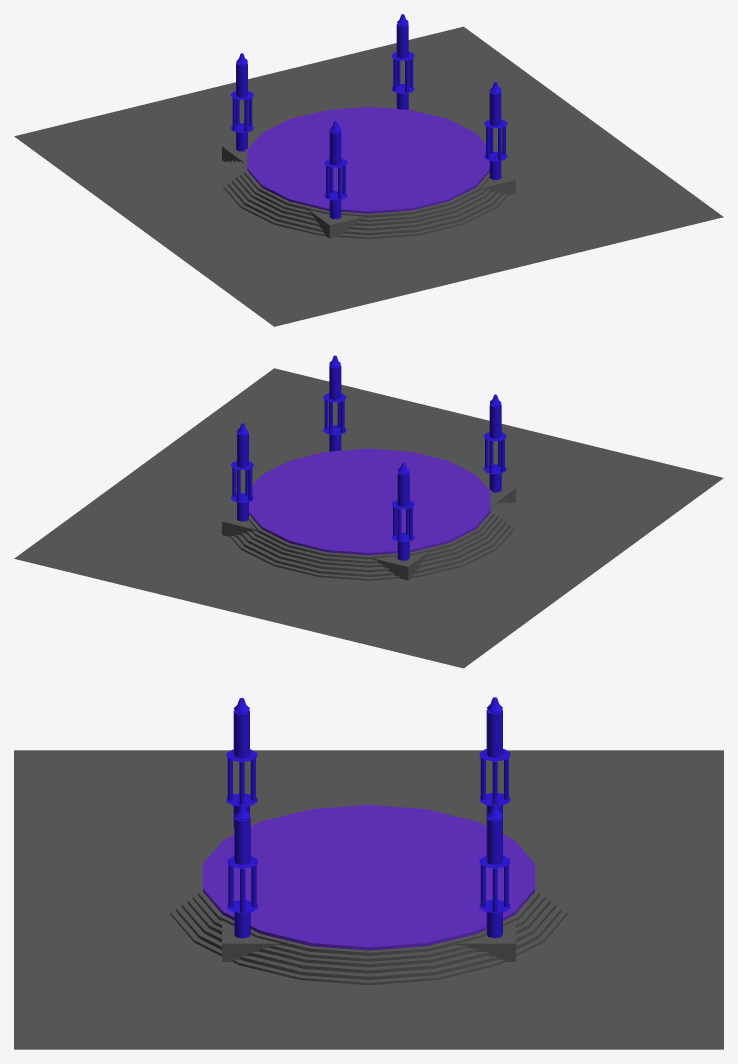
Rendered from NewRoundedArenaWithColor.FBX.
3 renders of one model, top to bottom at view 1: azimuth 30°, elevation 25°; view 2: azimuth 150°, elevation 25°; view 3: azimuth 270°, elevation 25°, orthographic. The views are drawn at different scales.
Parts seen in each view (by area): view 1: ArenaG, Cylinder028, NewArena, Cylinder034, Cylinder033, Cylinder024, Cylinder031, Cylinder030, Cylinder032, Cylinder029, Cylinder027, Cylinder025 (+1 smaller); view 2: ArenaG, Cylinder028, NewArena, Cylinder034, Cylinder033, Cylinder024, Cylinder031, Cylinder029, Cylinder032, Cylinder030, Cylinder027, Cylinder025 (+1 smaller); view 3: ArenaG, Cylinder028, Cylinder034, Cylinder033, Cylinder024, NewArena, Cylinder025, Cylinder031, Cylinder027, Cylinder030, Cylinder026, Cylinder032 (+1 smaller).
Part boxes in pixels (box(x1,y1,x2,y2)): ArenaG: box(14, 26, 723, 326); Cylinder028: box(247, 107, 489, 213); NewArena: box(222, 101, 515, 238); Cylinder034: box(227, 142, 510, 235); Cylinder033: box(223, 142, 514, 239); Cylinder024: box(231, 138, 506, 230); Cylinder031: box(484, 82, 507, 179); Cylinder030: box(391, 14, 414, 109); Cylinder032: box(324, 121, 347, 219); Cylinder029: box(230, 53, 253, 151); Cylinder027: box(243, 133, 489, 217); Cylinder025: box(235, 123, 502, 226); ArenaG: box(14, 368, 723, 668); Cylinder028: box(249, 448, 490, 555); NewArena: box(222, 443, 515, 580); Cylinder034: box(227, 484, 510, 576); Cylinder033: box(223, 483, 514, 580); Cylinder024: box(231, 480, 506, 572); Cylinder031: box(323, 355, 346, 451); Cylinder029: box(391, 462, 414, 560); Cylinder032: box(483, 394, 506, 492); Cylinder030: box(230, 423, 253, 521); Cylinder027: box(244, 475, 494, 559); Cylinder025: box(235, 465, 502, 567); ArenaG: box(14, 750, 723, 1049); Cylinder028: box(203, 805, 534, 950); Cylinder034: box(176, 851, 561, 979); Cylinder033: box(170, 851, 567, 985); Cylinder024: box(181, 848, 556, 973); NewArena: box(222, 819, 515, 961); Cylinder025: box(187, 841, 550, 967); Cylinder031: box(227, 804, 257, 938); Cylinder027: box(198, 841, 539, 955); Cylinder030: box(479, 804, 510, 938); Cylinder026: box(192, 843, 545, 961); Cylinder032: box(226, 698, 257, 828).
Bounding box in the file's own units: 336 × 78.04 × 337.
